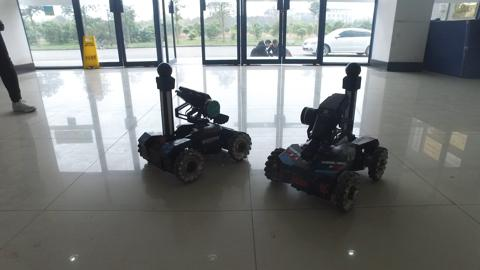chariot: (268, 58, 400, 213), (124, 61, 252, 185)
